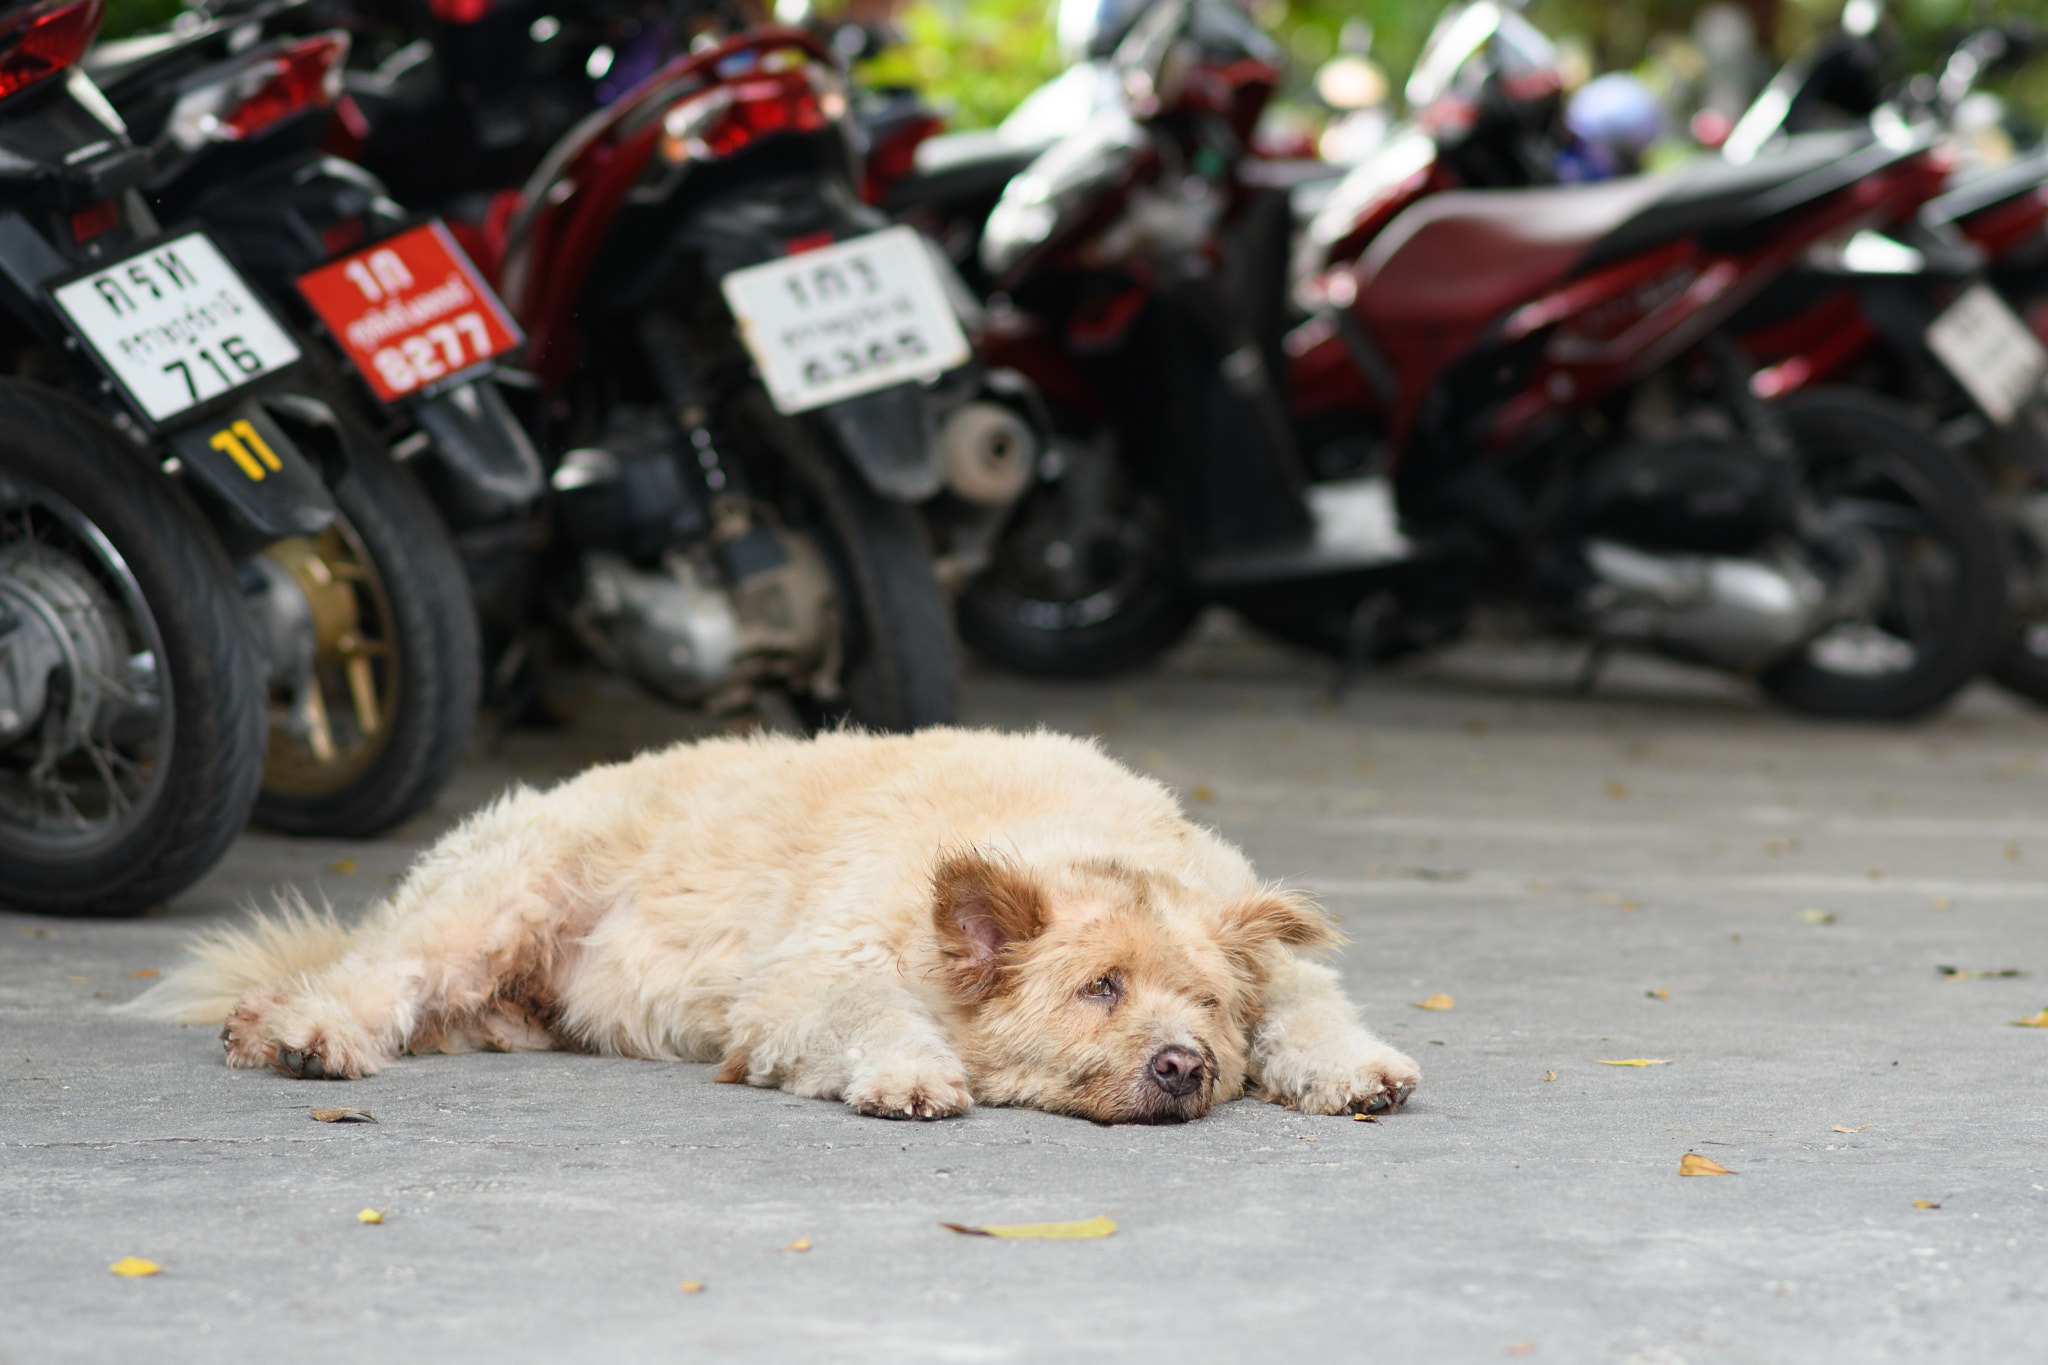dog: (221, 682, 1428, 1184)
